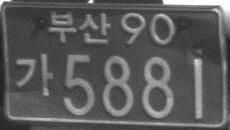0: (149, 11, 175, 45)
1: (190, 53, 206, 120)
5: (61, 52, 96, 116)
8: (141, 55, 174, 118), (102, 55, 134, 118)
9: (120, 11, 147, 45)
가: (14, 51, 54, 97)
부산_O: (47, 8, 111, 46)
